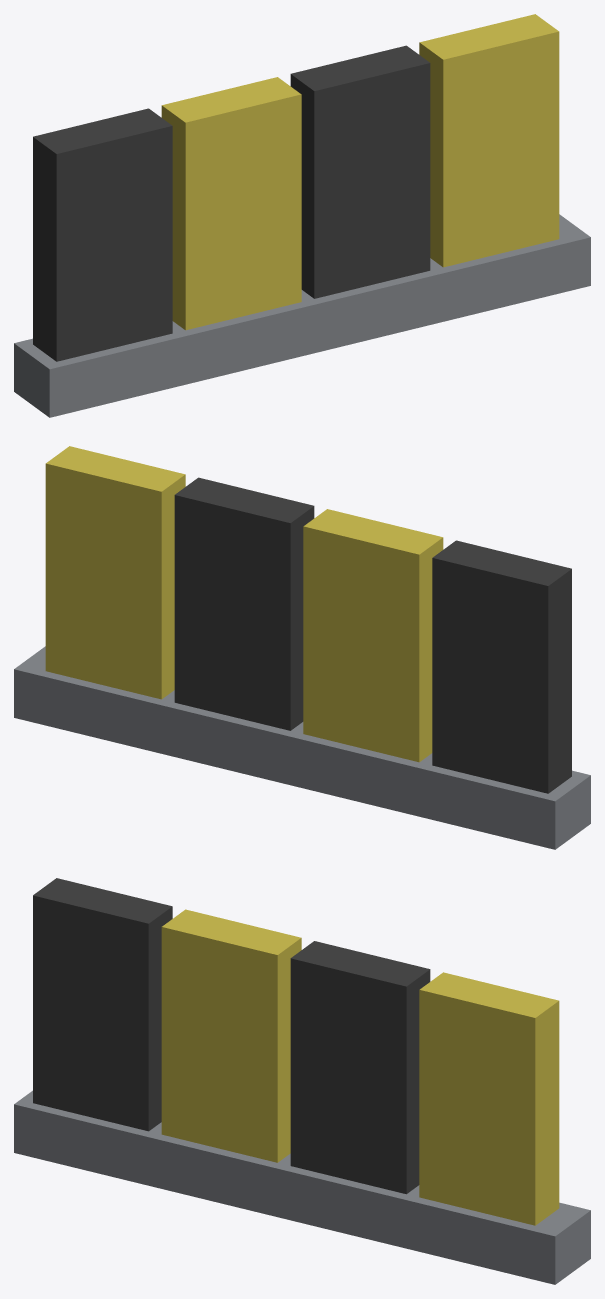
File: hk-barrier-yb-2m.glb
3 views of the same model, one above another, from view 1: azimuth 30°, elevation 25°; view 2: azimuth 150°, elevation 25°; view 3: azimuth 330°, elevation 25° (orthographic).
Visible parts, largest first — view 1: hk-barrier-yb-2m; view 2: hk-barrier-yb-2m; view 3: hk-barrier-yb-2m.
Part boxes in pixels (x1,y1,x2,y2): hk-barrier-yb-2m: (14,14,590,417); hk-barrier-yb-2m: (14,446,590,849); hk-barrier-yb-2m: (14,878,590,1284).
Size of the model in its own units: 2.1 by 0.95 by 0.24.
